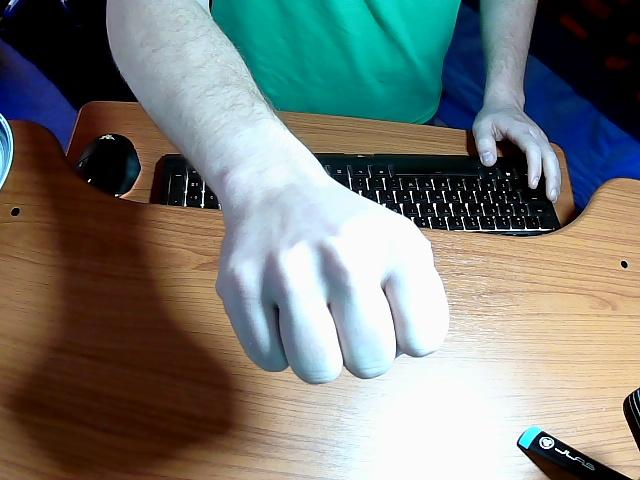rock: (218, 128, 449, 382)
